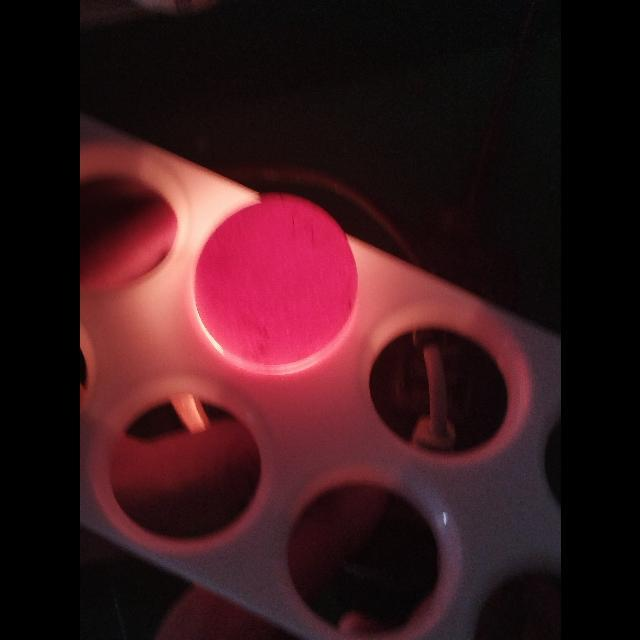Infertile: (190, 192, 360, 374)
